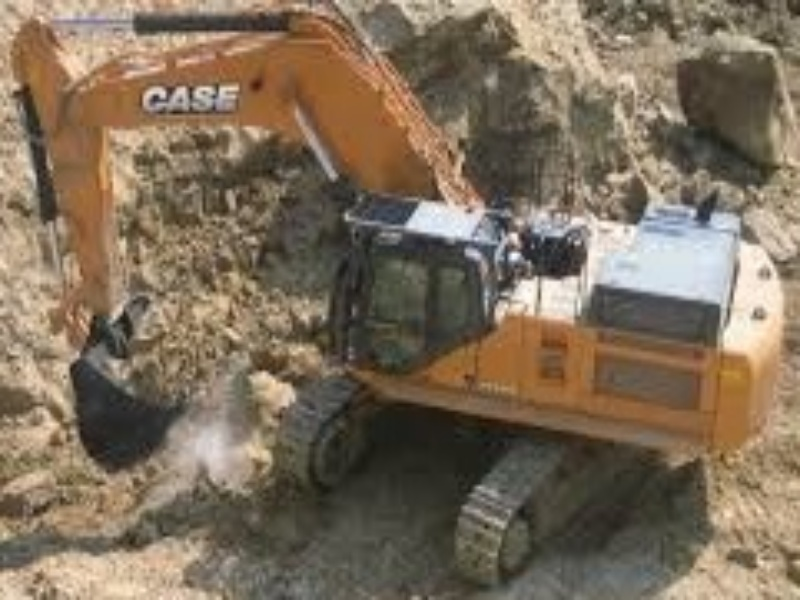wajueji: (244, 133, 800, 588)
